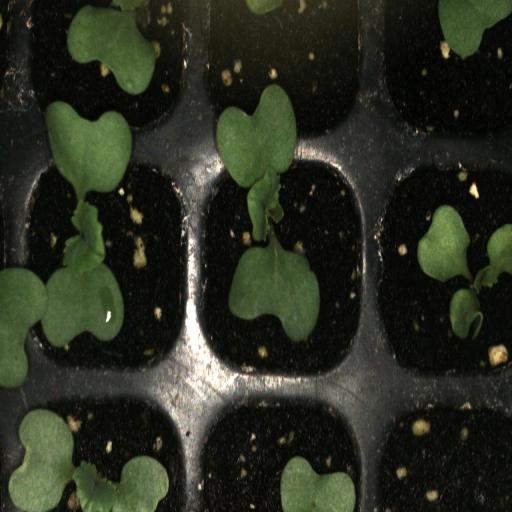seedling: (192, 140, 373, 390), (15, 144, 191, 381), (14, 385, 190, 512)
